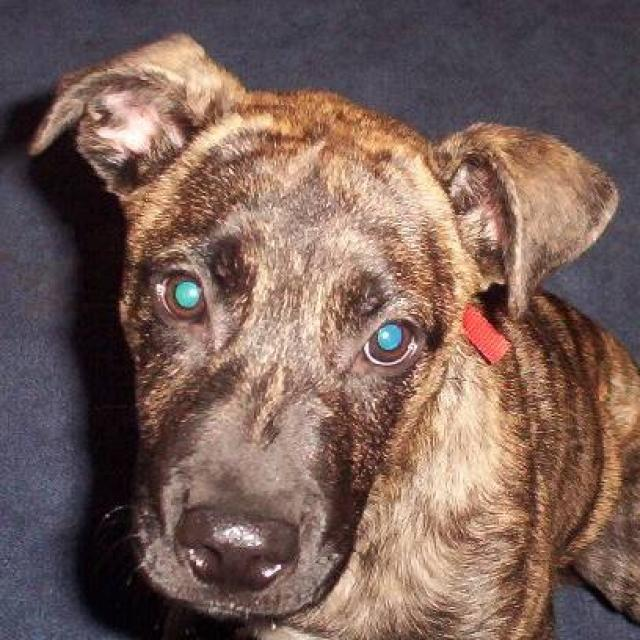dog: (25, 30, 639, 638)
